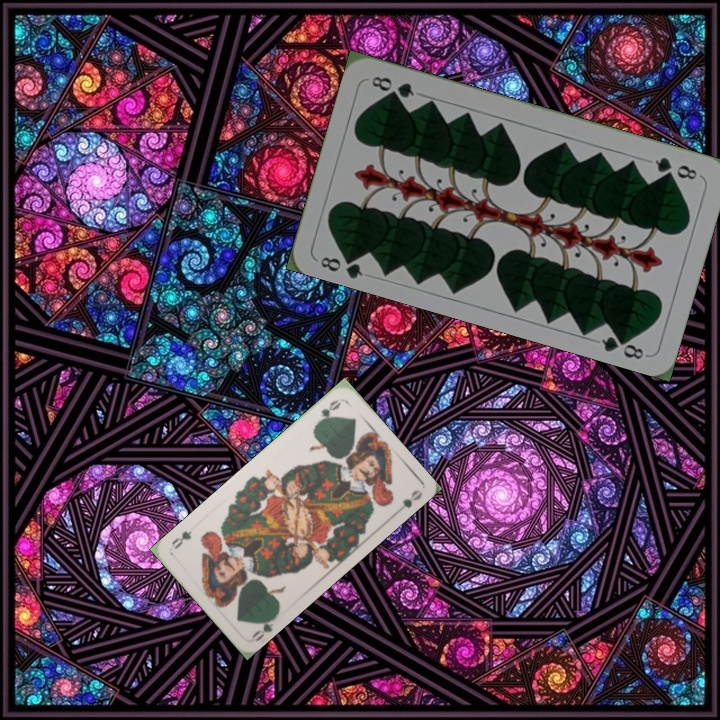G8: (316, 248, 366, 281), (650, 153, 700, 183)
GO: (248, 610, 280, 645), (312, 395, 344, 428)
